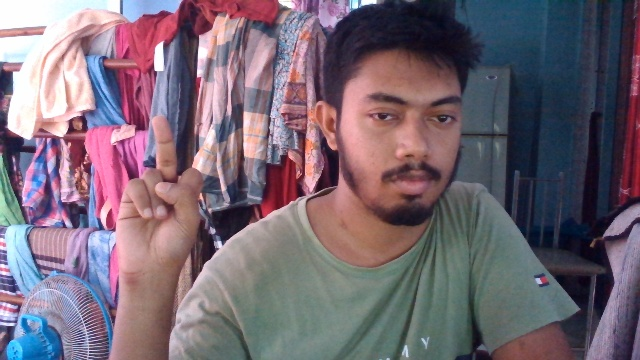fucku: (116, 115, 206, 272)
